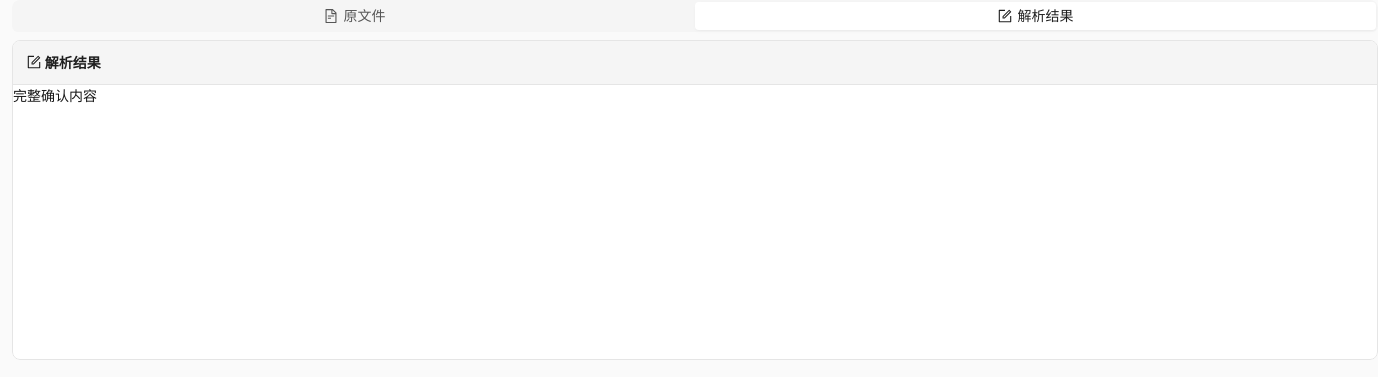
Test case: DocumentComparisonViewer › switches panes instead of squeezing them when the comparison container is narrow
expect the text "完整确认内容" is shown: met, box left=13, top=86, right=97, bottom=105
Click the radio button labelled "原文件" at (354, 16), box left=324, top=7, right=386, bottom=24
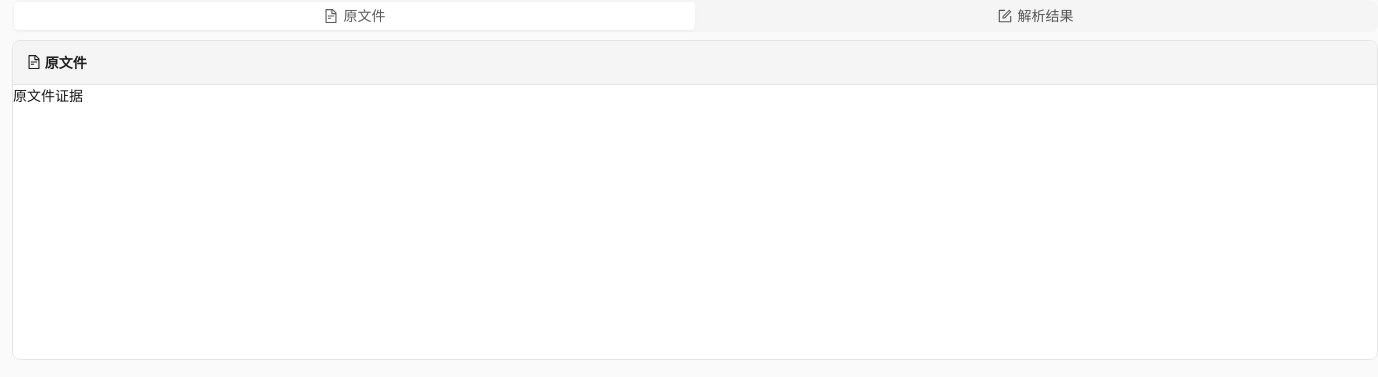
expect the text "原文件证据" is shown: met, box left=13, top=86, right=83, bottom=105
